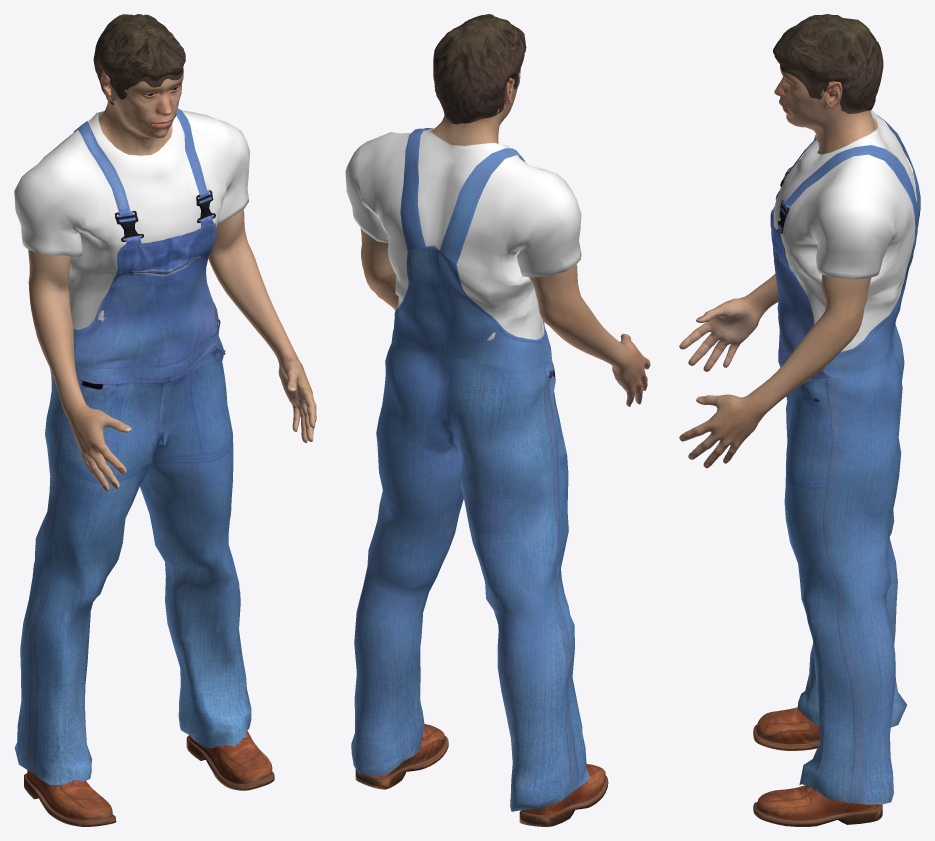
File: Obrero_normal.obj
3 views of the same model, side by side, from view 1: azimuth 30°, elevation 25°; view 2: azimuth 150°, elevation 25°; view 3: azimuth 270°, elevation 25° (orthographic).
Visible parts, largest first — view 1: male_worksuit01.obj, base.obj, shoes01.obj, short02.obj; view 2: male_worksuit01.obj, base.obj, short02.obj, shoes01.obj; view 3: male_worksuit01.obj, base.obj, short02.obj, shoes01.obj.
Boxes of the visible parts, box(x1,y1,x2,y2) form: male_worksuit01.obj: box(14, 108, 251, 785); base.obj: box(28, 71, 316, 491); shoes01.obj: box(24, 730, 274, 826); short02.obj: box(93, 14, 185, 105); male_worksuit01.obj: box(345, 128, 589, 811); base.obj: box(360, 67, 650, 406); short02.obj: box(433, 14, 526, 124); shoes01.obj: box(355, 724, 608, 826); male_worksuit01.obj: box(770, 110, 920, 804); base.obj: box(679, 66, 877, 468); short02.obj: box(773, 14, 883, 113); shoes01.obj: box(753, 707, 882, 826).
Size of the model in its own units: 0.5299 by 1.7 by 0.4897.
Materials: 7 (7 with a texture image).
